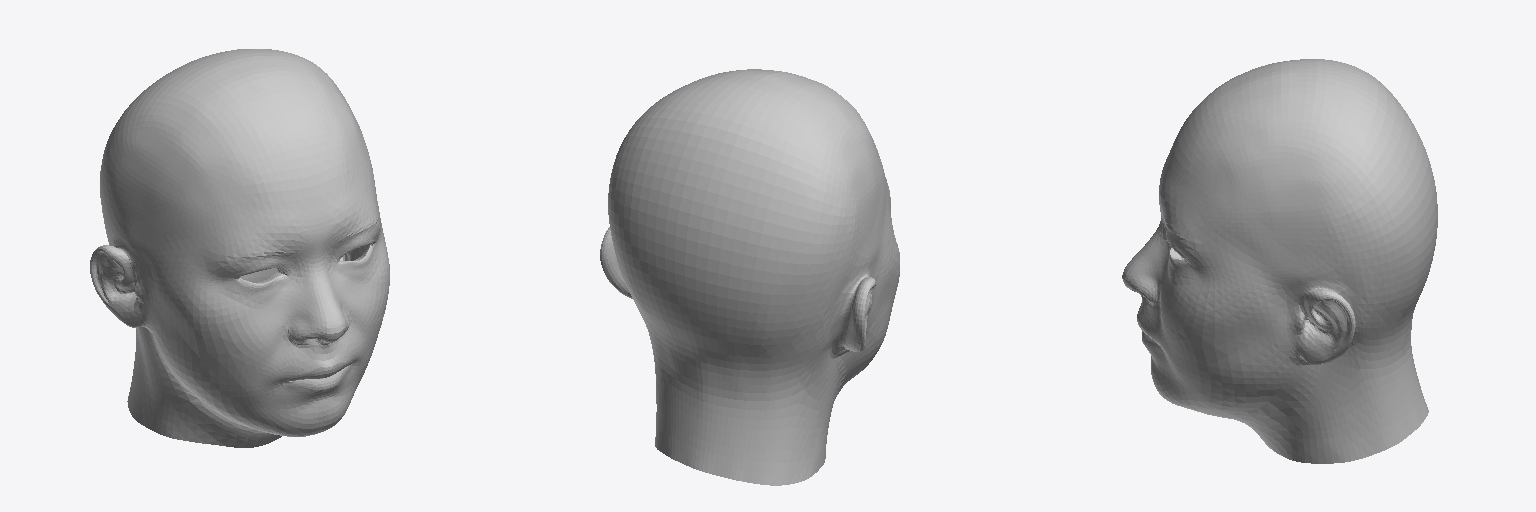
The model's file is str_model.obj.
The picture shows the model from 3 angles: view 1: azimuth 30°, elevation 25°; view 2: azimuth 150°, elevation 25°; view 3: azimuth 270°, elevation 25°; orthographic projection.
Size of the model in its own units: 204 by 272 by 213.